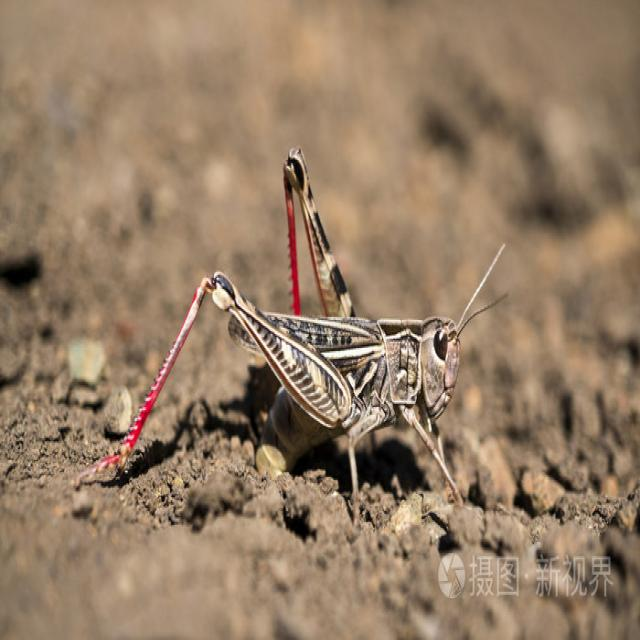ZhaMeng: (97, 138, 513, 495)
